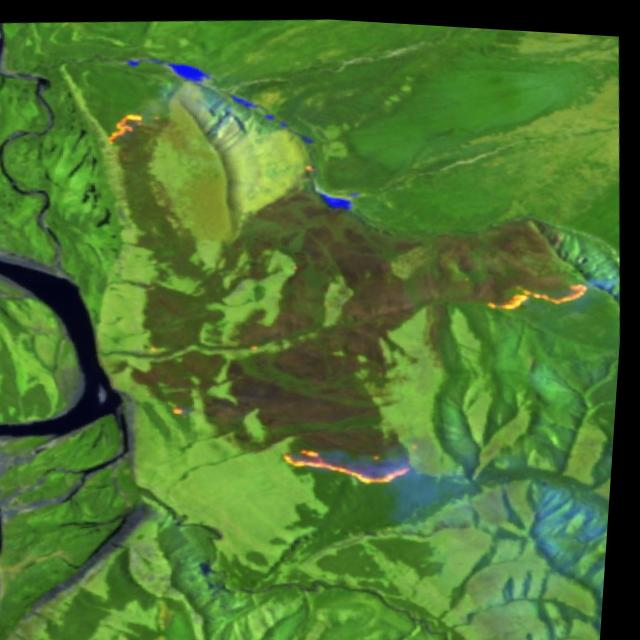fire: (280, 429, 430, 493), (479, 263, 604, 317), (96, 97, 163, 148)
